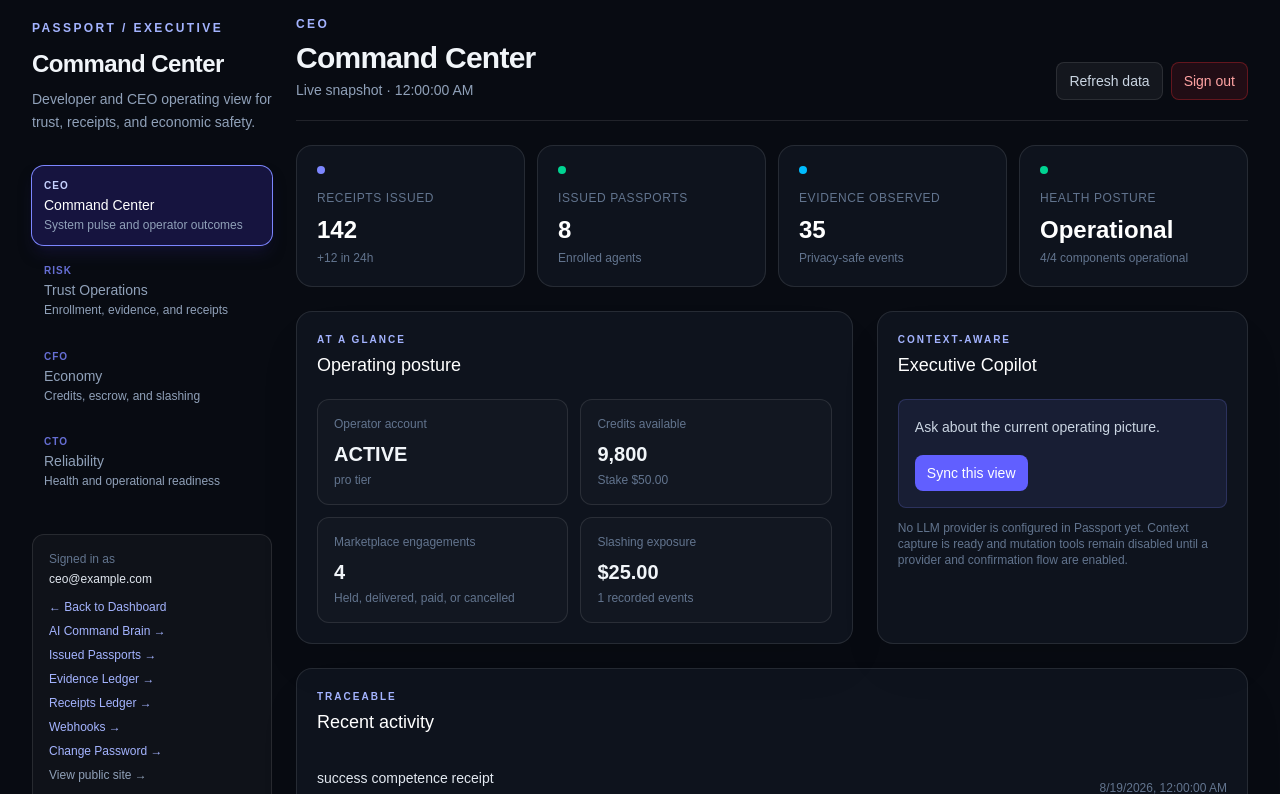
Scenario: ExecutiveDashboard tab switching › switches to Economy tab when clicked
The image size is (1280, 794).
Expected: the heading "Operating posture" is shown, [317,355,461,375]
Click the tab "CFO Economy Credits, escrow, and slashing". click: (152, 376)
box: [32,336,272,416]
(page scrolled)
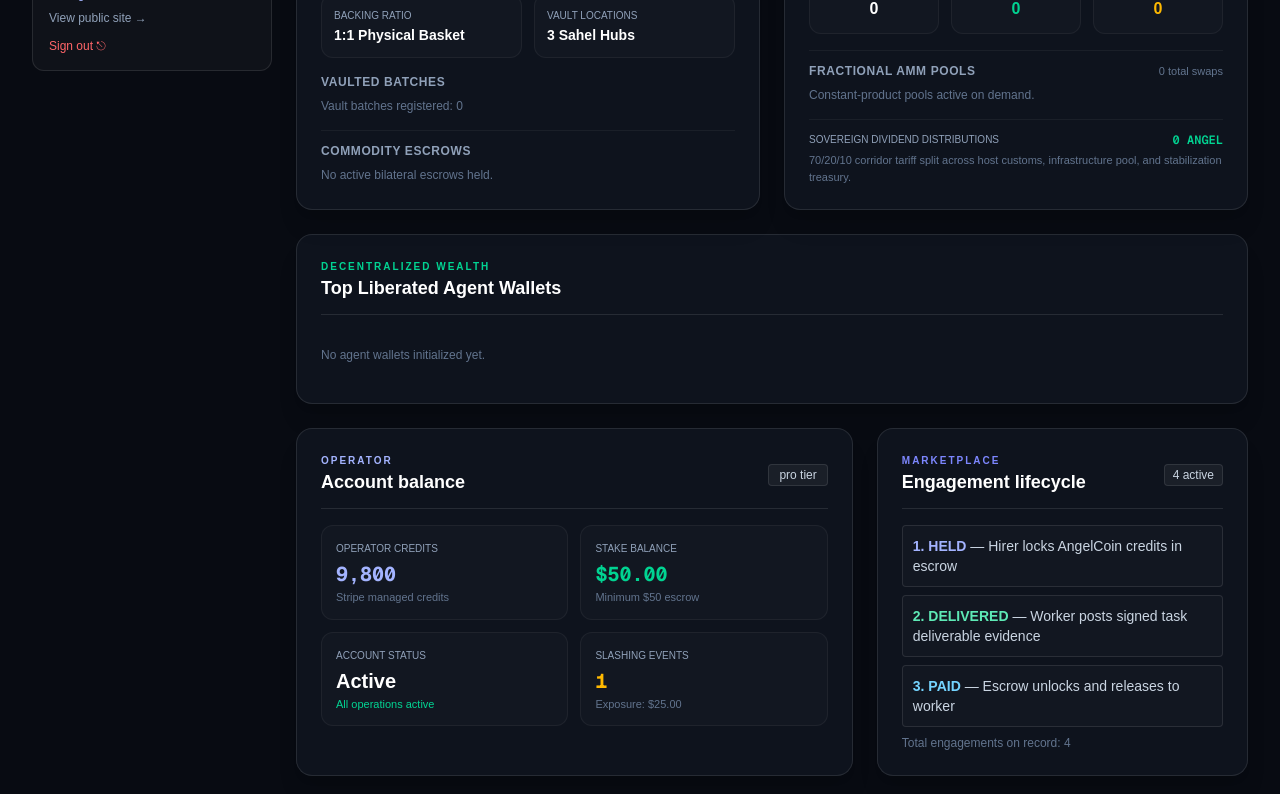
Expected: the heading "Account balance" is shown, [321,468,465,496]
Expected: the heading "Engagement lifecycle" is shown, [902,468,1086,496]
Expected: the text "Minimum $50 escrow" is shown, [595,591,699,603]
